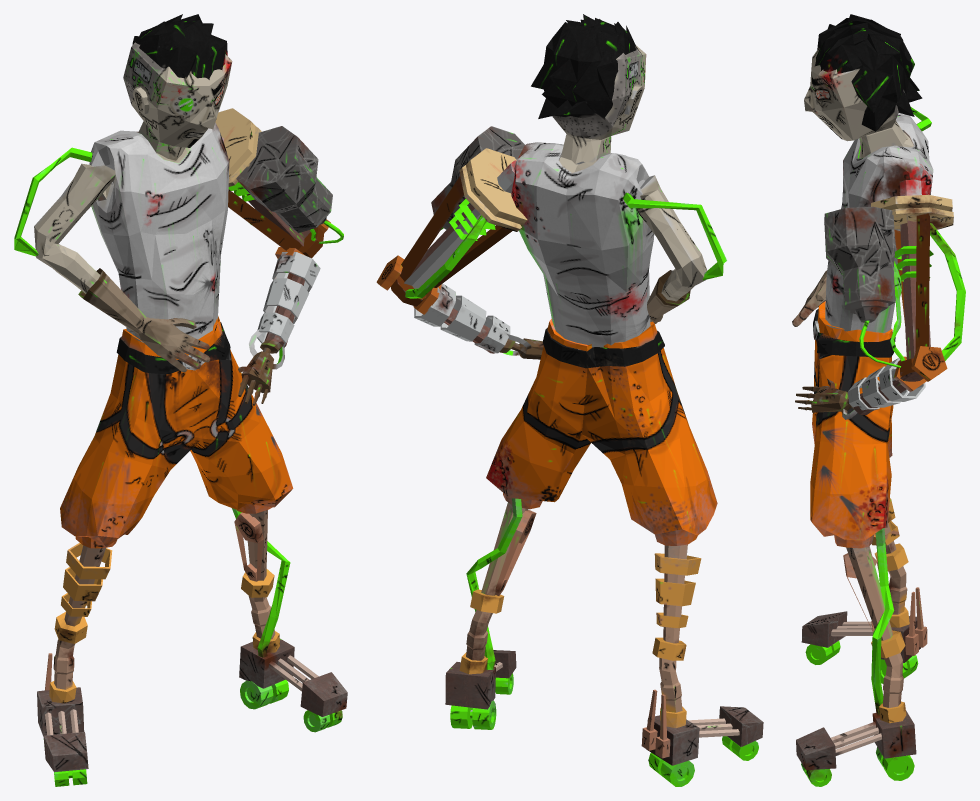
Rendered from CyborgFINALAnimation_000020.obj.
The picture shows the model from 3 angles, left to right: view 1: azimuth 30°, elevation 25°; view 2: azimuth 150°, elevation 25°; view 3: azimuth 270°, elevation 25°; orthographic projection. The views are drawn at different scales.
Parts seen in each view (by area): view 1: CyborgMesh_Cube.002; view 2: CyborgMesh_Cube.002; view 3: CyborgMesh_Cube.002.
Part boxes in pixels (<box>): CyborgMesh_Cube.002: <box>14,14,347,786</box>; CyborgMesh_Cube.002: <box>376,14,763,786</box>; CyborgMesh_Cube.002: <box>792,14,965,786</box>.
Bounding box in the file's own units: 4.58 × 9.61 × 2.14.
